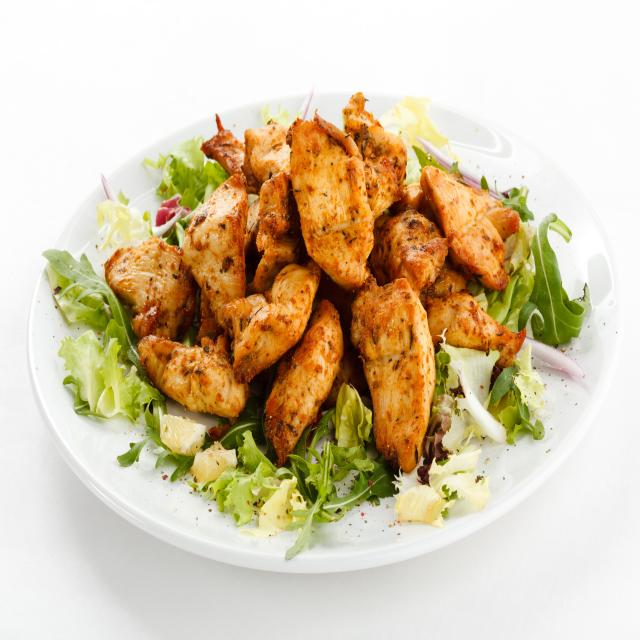organic: (60, 110, 599, 532)
